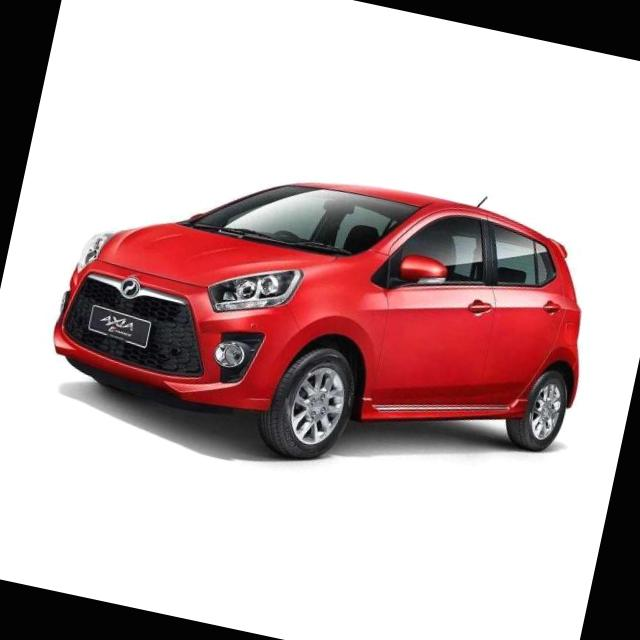PeroduaAxia: (37, 113, 612, 514)
